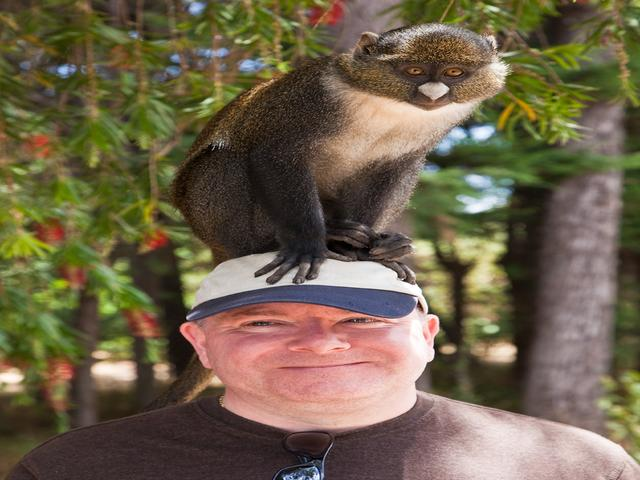monkey: (154, 10, 535, 305)
